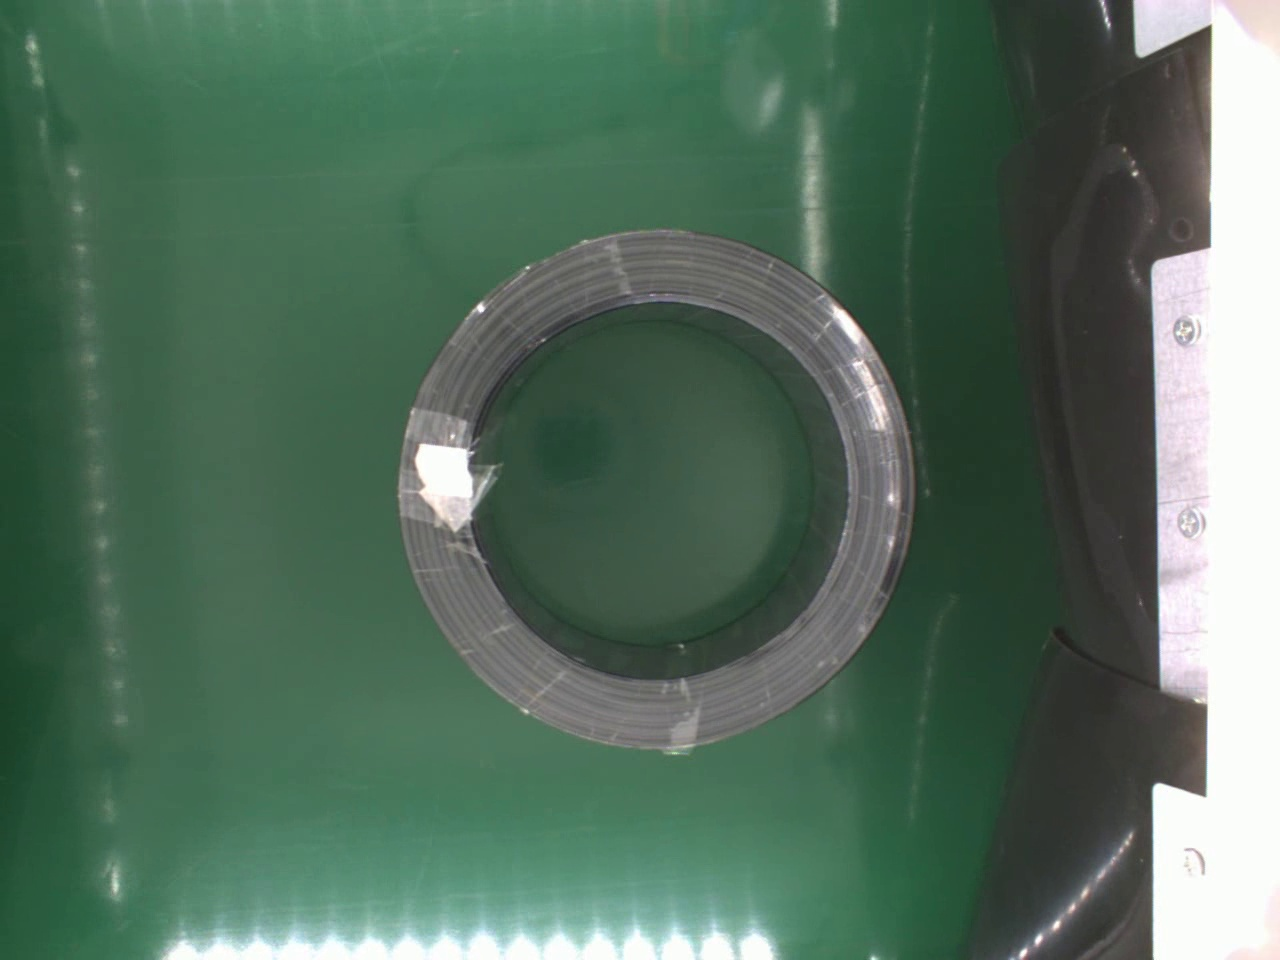black: (393, 229, 925, 753)
